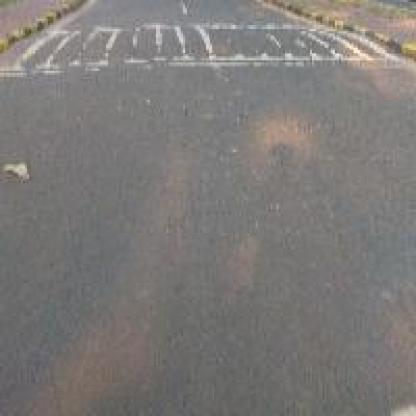Speed Bump: (2, 23, 408, 69)
